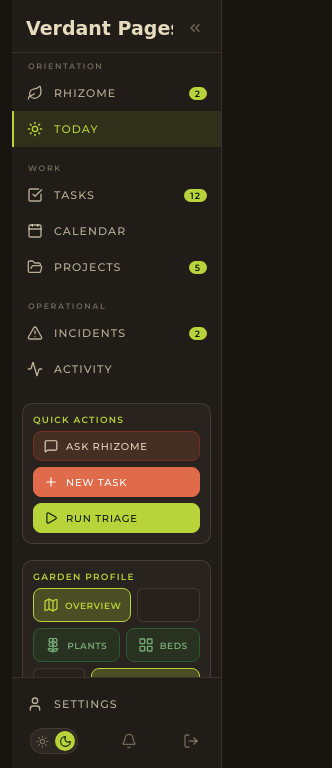
Test: AppNav › switches Garden Profile and Quick Actions to icon widgets when collapsed
This screenshot has width=332, height=768.
Click the button named "Collapse nav". click: (195, 28)
box: left=183, top=16, right=207, bottom=40
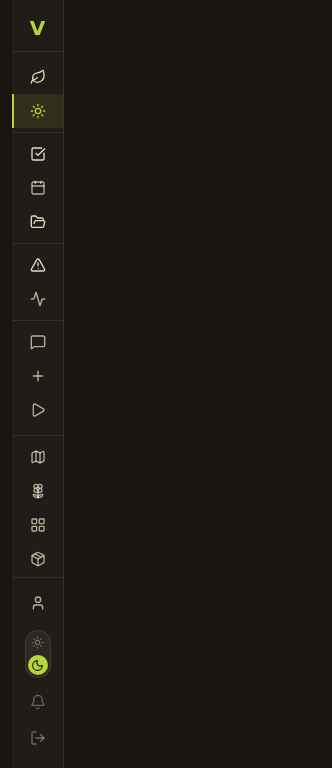
expect the text "Garden Profile" is gone: met
expect the text "Quick Actions" is gone: met
